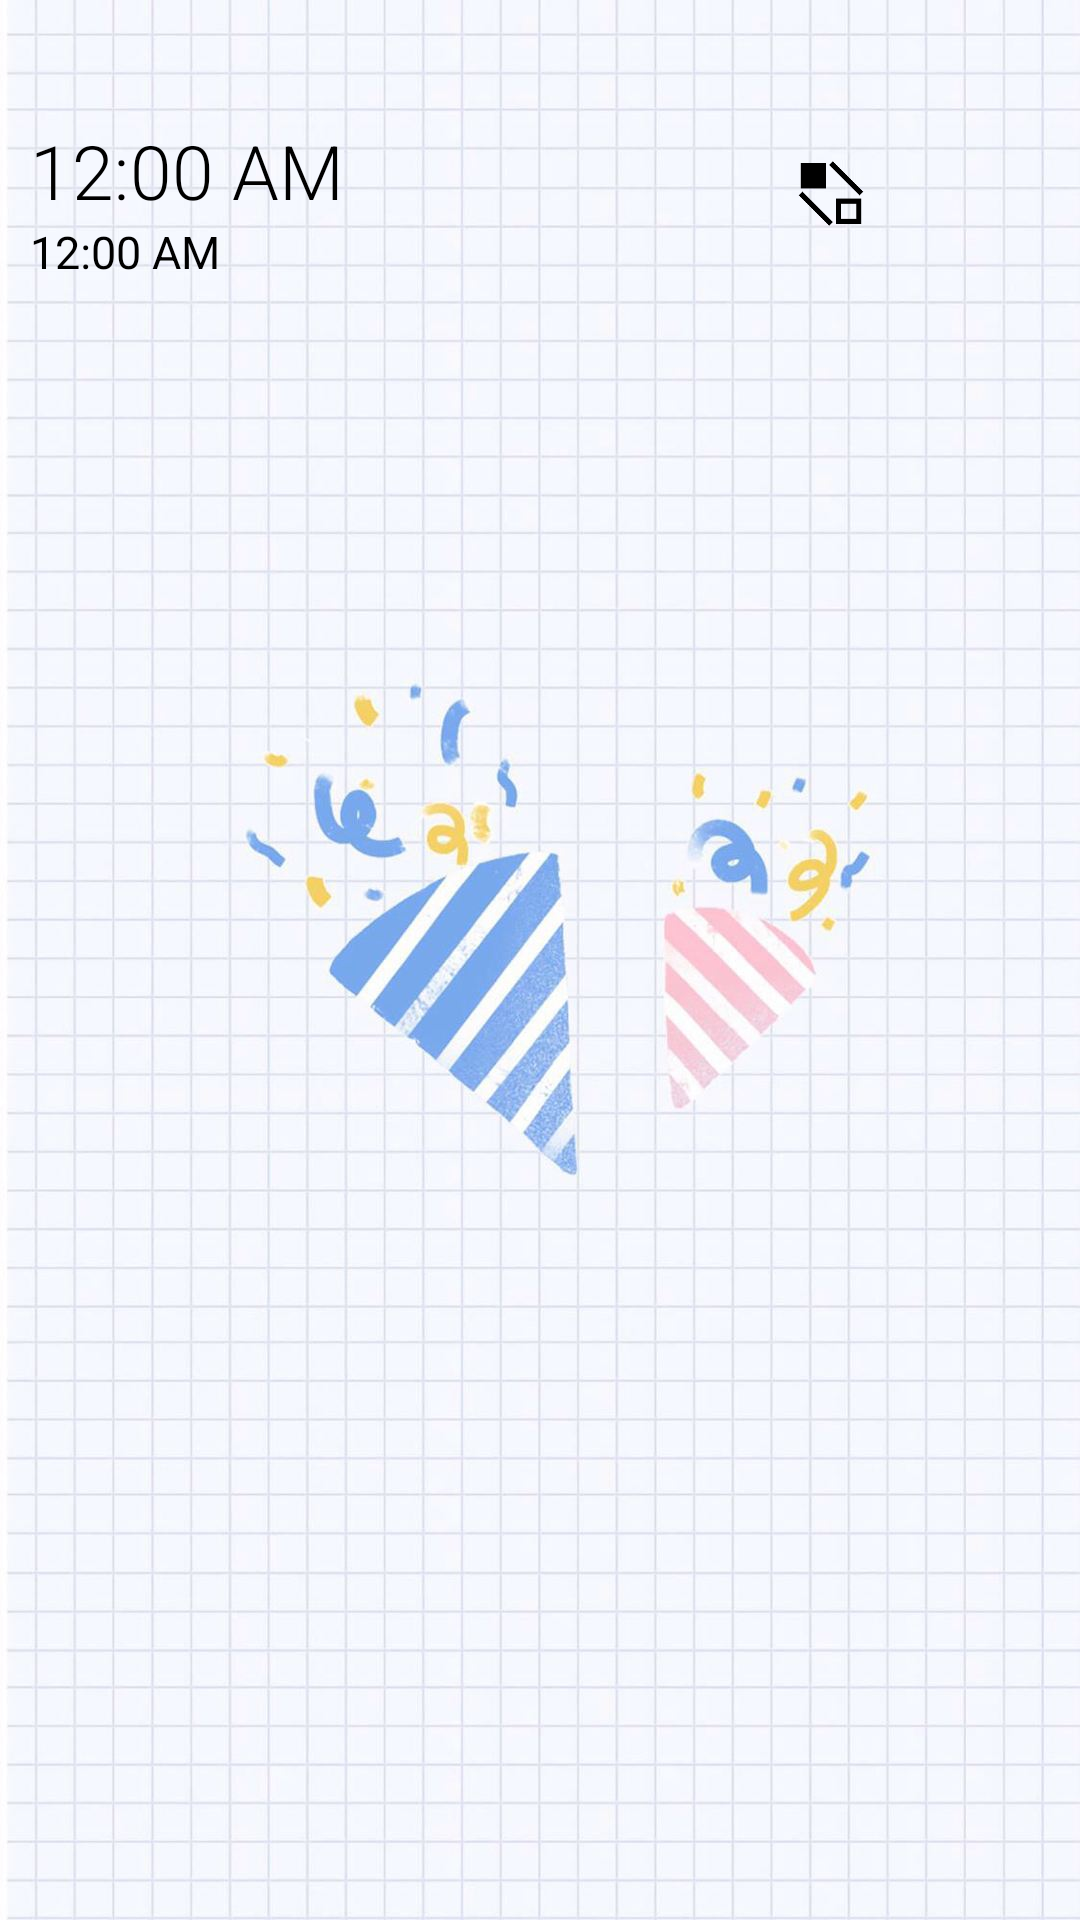

Point at icon controls on the screen. Image size 1080 x 1920, points as [x,y].
todo actionbar change: [837,188]
